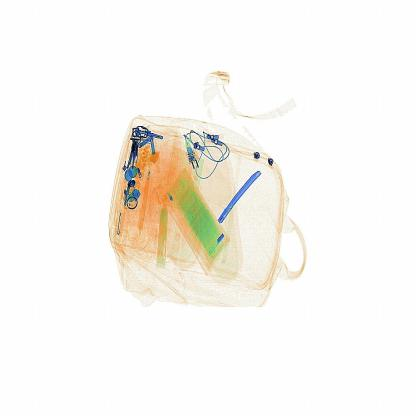pliers: (209, 158, 269, 231)
